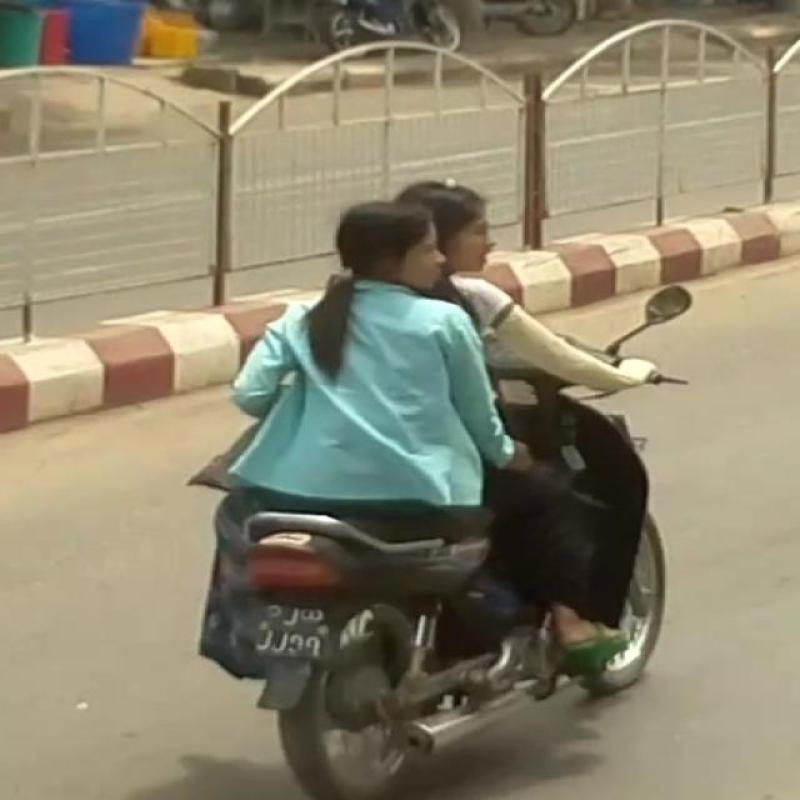nohelmet: (291, 196, 447, 296)
